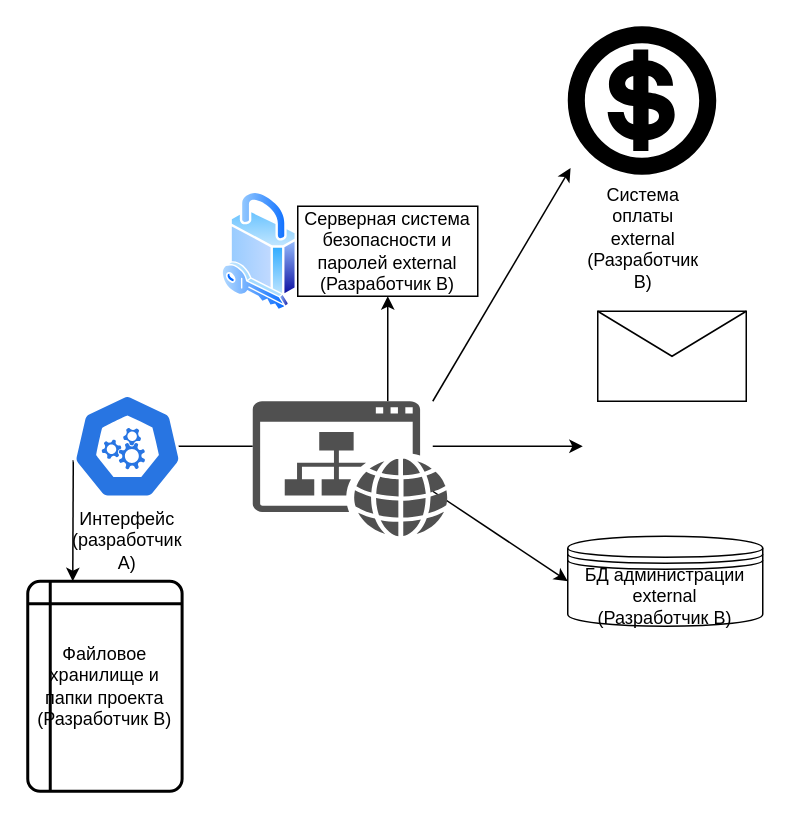
This 789x818 diagram has some shape labels left out. The centre of each missing label's shape, as x and y in pixels:
Сайт системы (разработчик Б): (x=349, y=468)
Система уведомлений external (Разработчик В): (x=671, y=355)
